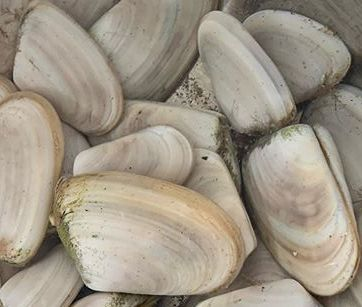tuatua: (49, 171, 245, 295), (234, 124, 357, 295), (10, 1, 127, 134), (196, 9, 301, 134), (244, 10, 353, 103), (72, 125, 194, 182)
